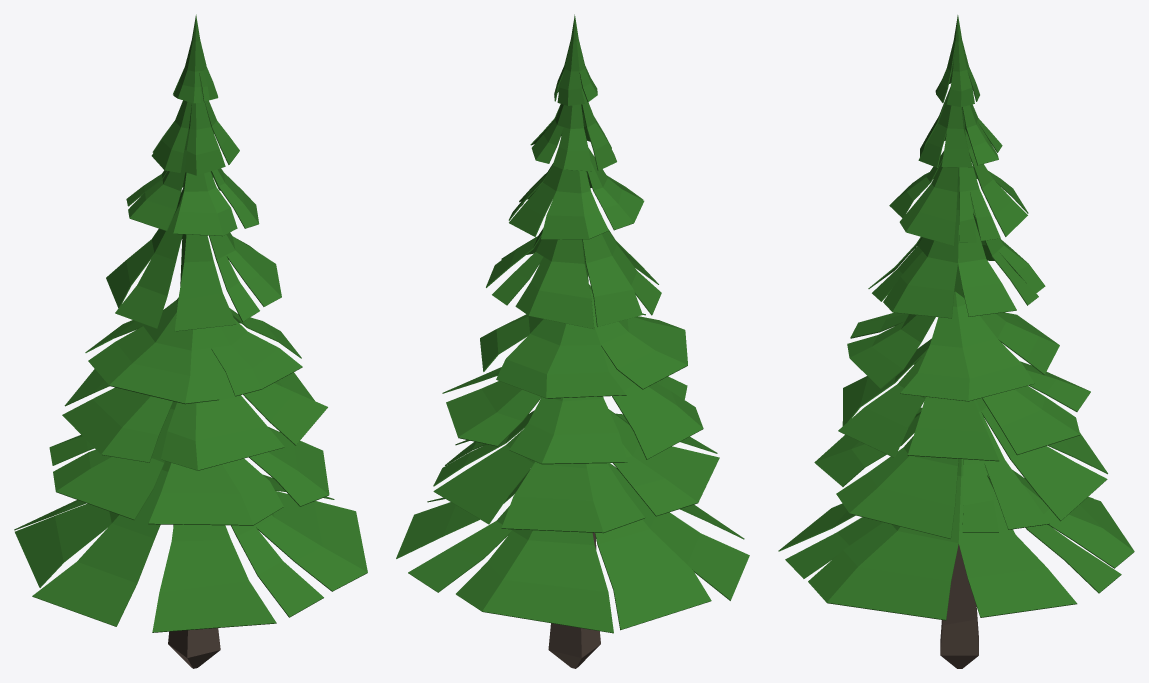
File: tree3.glb
3 views of the same model, side by side, from view 1: azimuth 30°, elevation 25°; view 2: azimuth 150°, elevation 25°; view 3: azimuth 270°, elevation 25° (orthographic).
Visible parts, largest first — view 1: Large Tree; view 2: Large Tree; view 3: Large Tree.
Part boxes in pixels (x1=…): Large Tree: x1=14, y1=14, x2=367, y2=668; Large Tree: x1=396, y1=14, x2=749, y2=668; Large Tree: x1=778, y1=15, x2=1134, y2=668.
Bounding box in the file's own units: 4.58 × 9.11 × 4.5.
